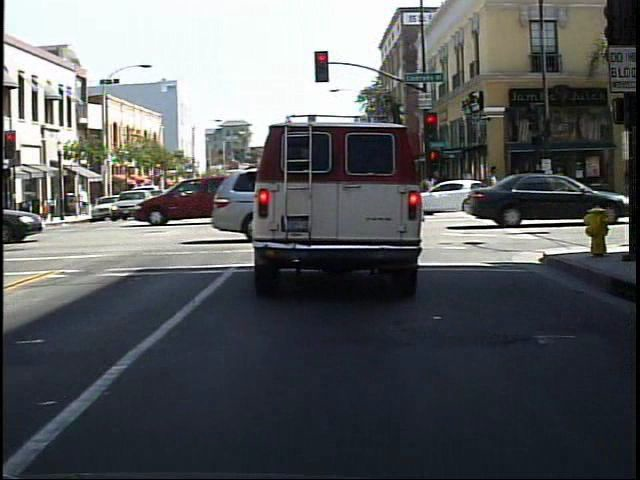person: (528, 158, 549, 208), (508, 164, 529, 207)
